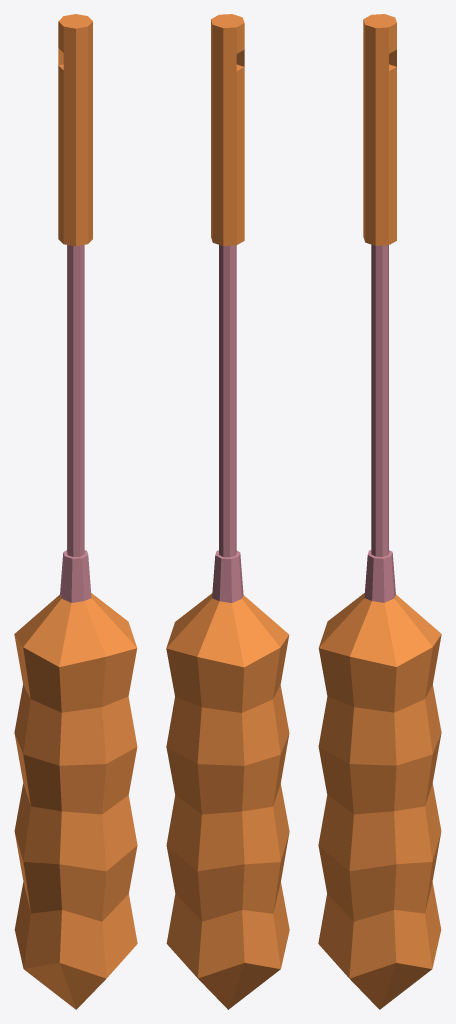
The model's file is Laundry_brush.fbx.
3 views of the same model, side by side, from view 1: azimuth 30°, elevation 25°; view 2: azimuth 150°, elevation 25°; view 3: azimuth 330°, elevation 25° (orthographic).
Visible parts, largest first — view 1: Laundry_brush; view 2: Laundry_brush; view 3: Laundry_brush.
Boxes of the visible parts, bbox=[...] form: Laundry_brush: bbox=[14, 14, 137, 1009]; Laundry_brush: bbox=[166, 14, 289, 1009]; Laundry_brush: bbox=[318, 14, 441, 1009].
Bounding box in the file's own units: 12.29 × 110 × 12.38.
